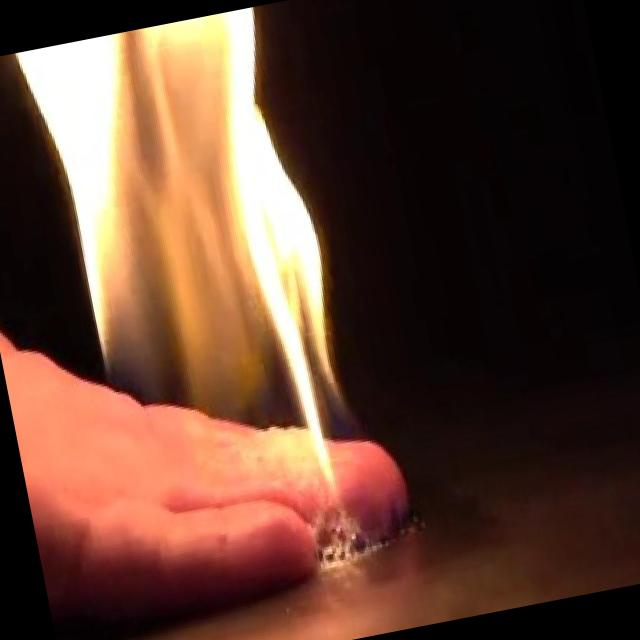Fire: (9, 2, 378, 550)
